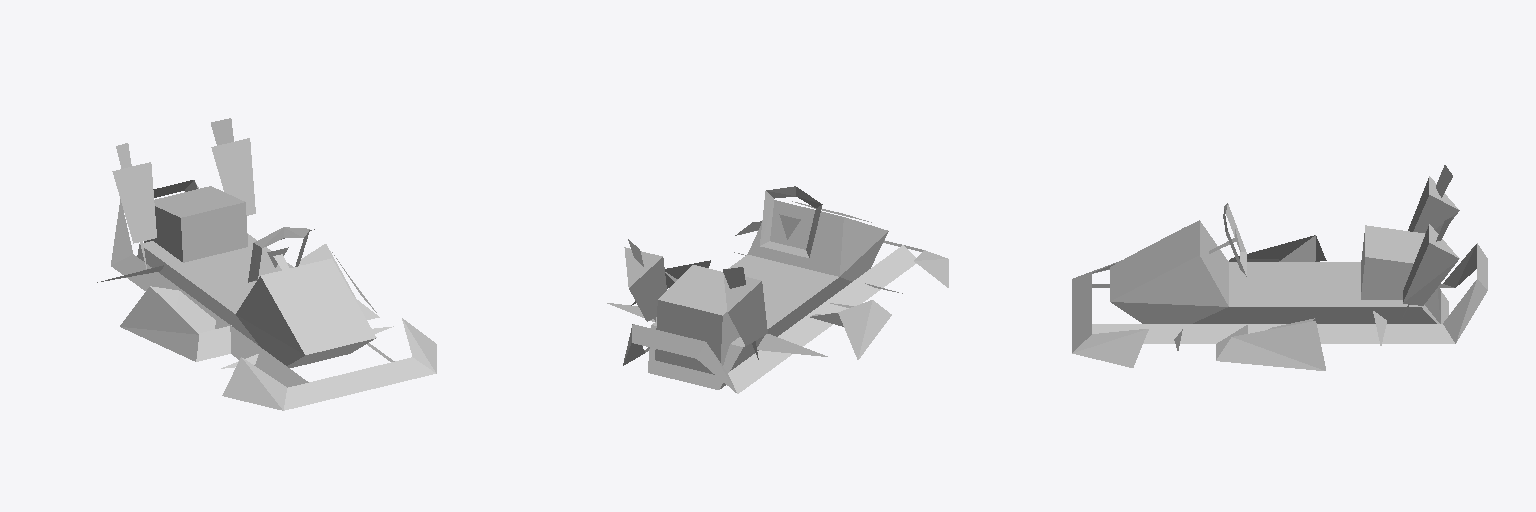
3 views of the same model, side by side, from view 1: azimuth 30°, elevation 25°; view 2: azimuth 150°, elevation 25°; view 3: azimuth 270°, elevation 25° (orthographic).
Visible parts, largest first — view 1: polygon1, polygon2; view 2: polygon1; view 3: polygon1, polygon2.
Boxes of the visible parts, x1=… form: polygon1: x1=97, y1=118, x2=436, y2=410; polygon2: x1=274, y1=269, x2=362, y2=337; polygon1: x1=607, y1=186, x2=948, y2=393; polygon1: x1=1072, y1=165, x2=1487, y2=370; polygon2: x1=1124, y1=227, x2=1184, y2=287.
Size of the model in its own units: 0.8408 by 0.4517 by 1.34.